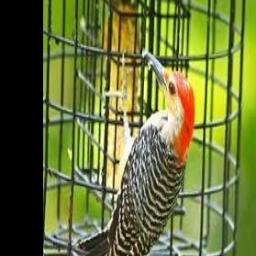Woodpecker: (75, 47, 195, 256)
